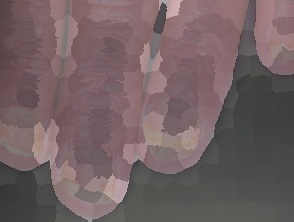Nail_psoriasis: (127, 83, 220, 174), (48, 134, 133, 216), (0, 100, 49, 161), (260, 8, 294, 69)
